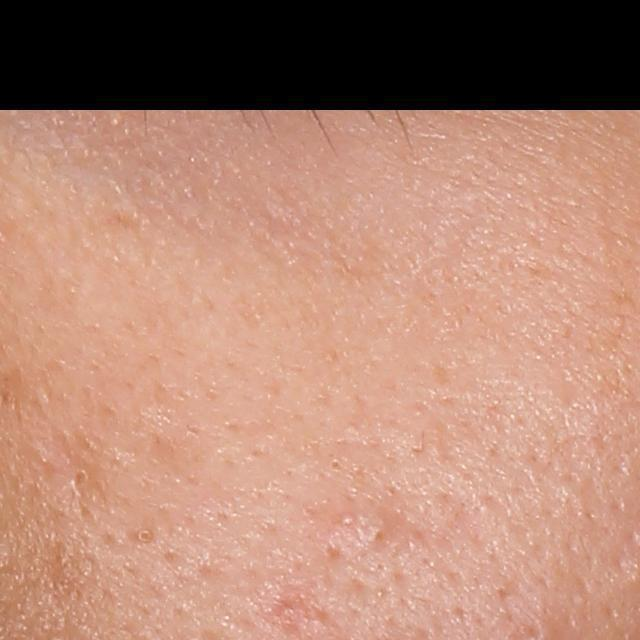comedo: (65, 466, 91, 494), (134, 525, 156, 545), (338, 513, 355, 530), (329, 457, 341, 472)
